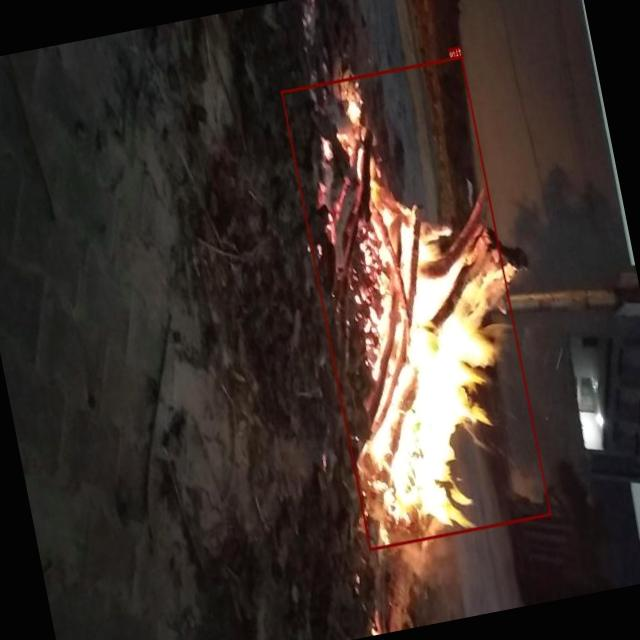fire: (281, 56, 552, 550)
